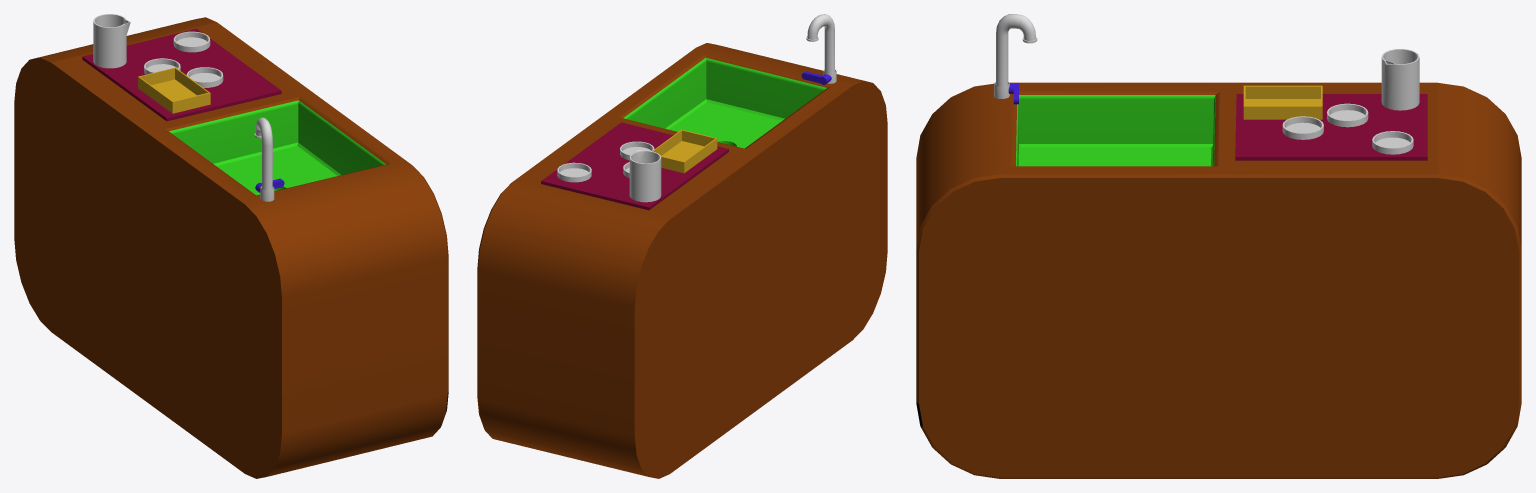
Rendered from Sink_FBX (1).fbx.
3 renders of one model, left to right at view 1: azimuth 30°, elevation 25°; view 2: azimuth 150°, elevation 25°; view 3: azimuth 270°, elevation 25°, orthographic. The views are drawn at different scales.
Visible parts, largest first — view 1: Sink:Structure, Sink:pCube1, Sink:pCylinder11, Sink:Robinet, Sink:pCylinder10, Sink:pCylinder6; view 2: Sink:Structure, Sink:pCube1, Sink:pCylinder11, Sink:Robinet, Sink:pCylinder10; view 3: Sink:Structure, Sink:pCube1, Sink:pCylinder11, Sink:Robinet, Sink:pCylinder6, Sink:pCylinder10, Sink:pCylinder9.
Boxes of the visible parts, left/top/right/bottom form: Sink:Structure: left=14, top=17, right=448, bottom=478; Sink:pCube1: left=138, top=67, right=210, bottom=113; Sink:pCylinder11: left=93, top=14, right=130, bottom=68; Sink:Robinet: left=254, top=117, right=274, bottom=201; Sink:pCylinder10: left=173, top=31, right=210, bottom=52; Sink:pCylinder6: left=186, top=67, right=223, bottom=87; Sink:Structure: left=477, top=43, right=887, bottom=478; Sink:pCube1: left=652, top=129, right=717, bottom=173; Sink:pCylinder11: left=629, top=149, right=661, bottom=202; Sink:Robinet: left=806, top=14, right=836, bottom=83; Sink:pCylinder10: left=557, top=162, right=591, bottom=182; Sink:Structure: left=916, top=82, right=1521, bottom=478; Sink:pCube1: left=1243, top=85, right=1322, bottom=119; Sink:pCylinder11: left=1381, top=49, right=1419, bottom=110; Sink:Robinet: left=994, top=14, right=1037, bottom=98; Sink:pCylinder6: left=1282, top=116, right=1323, bottom=139; Sink:pCylinder10: left=1372, top=131, right=1413, bottom=154; Sink:pCylinder9: left=1327, top=103, right=1368, bottom=127.
Size of the model in its own units: 4.01 by 7.81 by 11.06.
